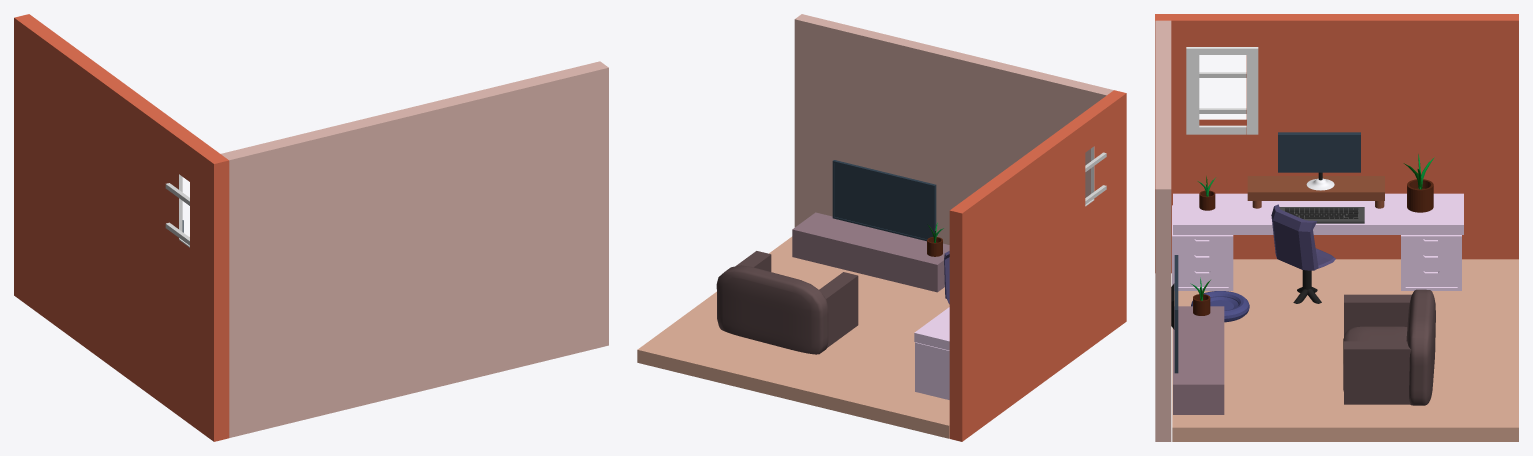
The model's file is Myroom.glb.
3 views of the same model, side by side, from view 1: azimuth 30°, elevation 25°; view 2: azimuth 150°, elevation 25°; view 3: azimuth 270°, elevation 25° (orthographic). The views are drawn at different scales.
Visible parts, largest first — view 1: wall 1, wall; view 2: wall, wall 1, floor, sofa back.001, tv stand, tv, sofa stand 1, bed stand.002, bed; view 3: wall, floor, bed, wall 1, tv stand, sofa stand, monitor, bed stand.002, bed stand.003, monitor stand, window, sofa back.001 (+8 smaller).
Boxes of the visible parts, box(x1,y1,x2,y2) form: wall 1: box(221, 61, 608, 437); wall: box(14, 14, 229, 441); wall: box(949, 90, 1126, 441); wall 1: box(794, 14, 1113, 244); floor: box(637, 236, 949, 438); sofa back.001: box(716, 265, 828, 354); tv stand: box(792, 212, 949, 292); tv: box(832, 160, 936, 241); sofa stand 1: box(819, 272, 858, 347); bed stand.002: box(915, 342, 949, 399); bed: box(914, 307, 949, 350); wall: box(1155, 14, 1518, 273); floor: box(1172, 259, 1518, 441); bed: box(1173, 193, 1463, 234); wall 1: box(1155, 20, 1171, 441); tv stand: box(1173, 306, 1224, 414); sofa stand: box(1344, 341, 1411, 404); monitor: box(1278, 132, 1360, 172); bed stand.002: box(1401, 235, 1461, 290); bed stand.003: box(1172, 205, 1233, 290); monitor stand: box(1247, 176, 1384, 200); window: box(1186, 47, 1258, 134); sofa back.001: box(1406, 289, 1435, 405).
Bounding box in the file's own units: 53.85 × 36.2 × 47.25.
